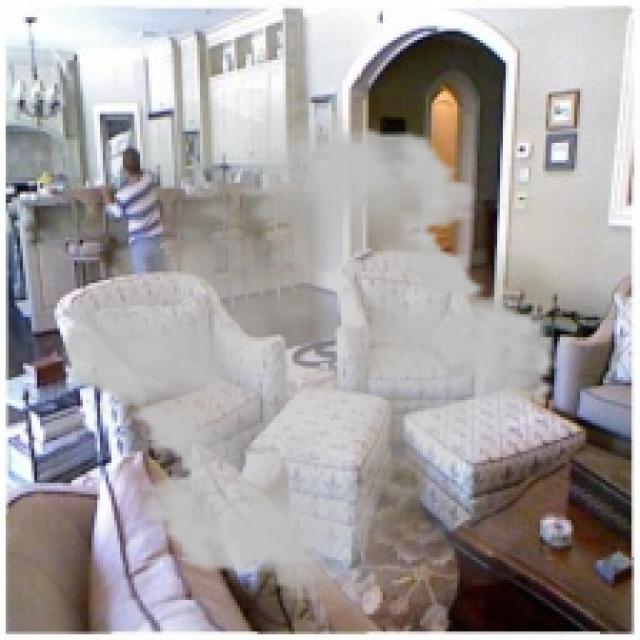smoke: (40, 89, 577, 614)
